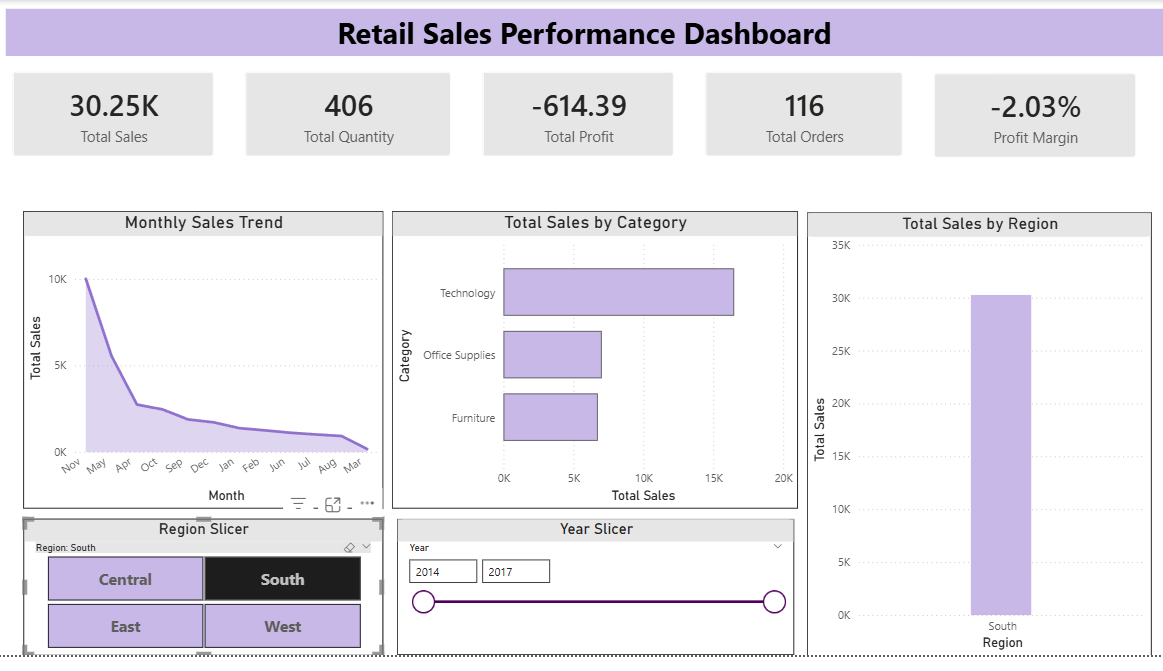

The dashboard page shown, as its layout file describes it:
{"tool":"powerbi","page":{"name":"Executive Overview","canvas":[1280,720],"ordinal":0},"visuals":[{"type":"textbox","box":[9.6,9.6,1270.7,52.1],"z":0},{"type":"cardVisual","fields":{"Data":["Sample - Superstore.Total Sales"]},"box":[0,61.7,255.2,127.6],"z":1},{"type":"lineChart","title":"Monthly Sales Trend","fields":{"Y":["Sample - Superstore.Total Sales"],"Category":["Date Table.Month"]},"box":[28.8,231.9,395.2,326.6],"z":7},{"type":"clusteredBarChart","fields":{"Category":["Sample - Superstore.Category"],"Y":["Sample - Superstore.Total Sales"]},"box":[433.6,231.9,446,326.6],"z":8},{"type":"clusteredColumnChart","fields":{"Category":["Sample - Superstore.Region"],"Y":["Sample - Superstore.Total Sales"]},"box":[889.2,233.3,378.7,487.1],"z":9},{"type":"slicer","title":"Year Slicer","fields":{"Values":["Date Table.Year"]},"box":[439.1,569.5,436.4,149.6],"z":10},{"type":"slicer","title":"Region Slicer","fields":{"Values":["Sample - Superstore.Region"]},"box":[29,570,395,150],"z":11},{"type":"cardVisual","fields":{"Data":["Sample - Superstore.Total Quantity"]},"box":[255.2,61.7,260.7,127.6],"z":12},{"type":"cardVisual","fields":{"Data":["Sample - Superstore.Total Profit"]},"box":[516,61.7,244.3,127.6],"z":13},{"type":"cardVisual","fields":{"Data":["Sample - Superstore.Total Orders"]},"box":[760.2,61.7,251.1,127.6],"z":14},{"type":"cardVisual","fields":{"Data":["Sample - Superstore.Profit Margin"]},"box":[1011.3,63.1,256.6,127.6],"z":15}]}

Visuals, with their boxes in screenshot pixels (x1, y1, x2, y2), scaled from the page's 1280x720 canvas onto the 1163x671 screenshot:
textbox: bbox=(9, 9, 1162, 58)
cardVisual - Sample - Superstore.Total Sales: bbox=(0, 58, 232, 176)
"Monthly Sales Trend" lineChart: bbox=(26, 216, 385, 520)
clusteredBarChart - Sample - Superstore.Category x Sample - Superstore.Total Sales: bbox=(394, 216, 799, 520)
clusteredColumnChart - Sample - Superstore.Region x Sample - Superstore.Total Sales: bbox=(808, 217, 1152, 670)
"Year Slicer" slicer: bbox=(399, 531, 795, 670)
"Region Slicer" slicer: bbox=(26, 531, 385, 670)
cardVisual - Sample - Superstore.Total Quantity: bbox=(232, 58, 469, 176)
cardVisual - Sample - Superstore.Total Profit: bbox=(469, 58, 691, 176)
cardVisual - Sample - Superstore.Total Orders: bbox=(691, 58, 919, 176)
cardVisual - Sample - Superstore.Profit Margin: bbox=(919, 59, 1152, 178)
